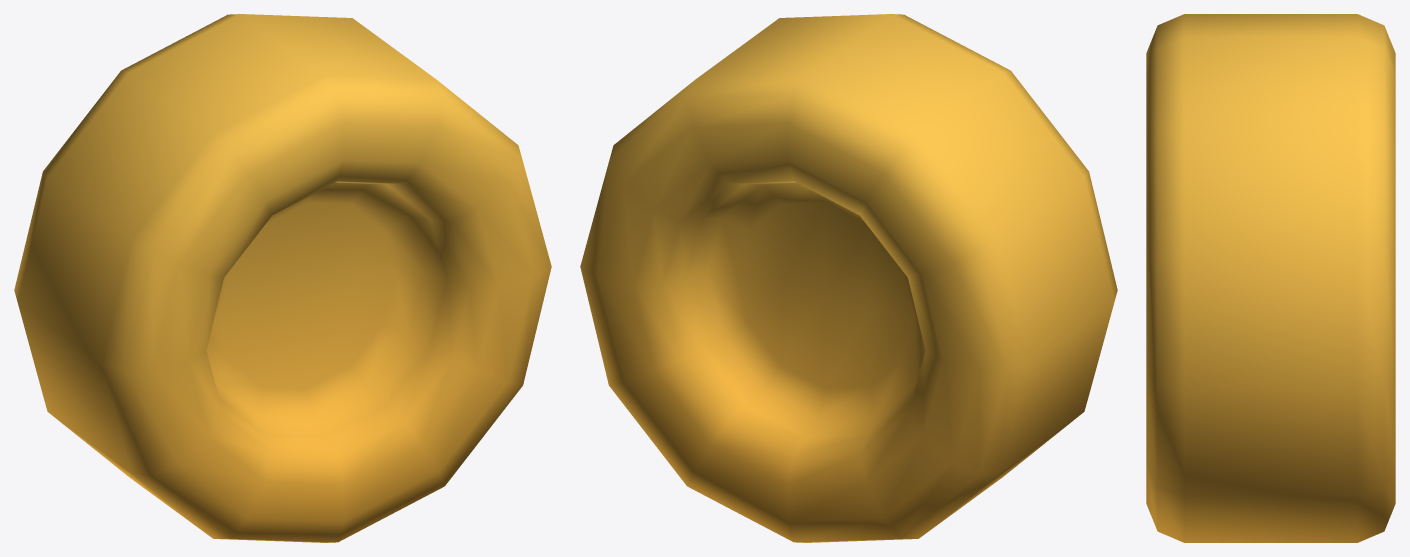
The model's file is coin.fbx.
The picture shows the model from 3 angles, left to right: view 1: azimuth 30°, elevation 25°; view 2: azimuth 150°, elevation 25°; view 3: azimuth 270°, elevation 25°; orthographic projection. The views are drawn at different scales.
Parts seen in each view (by area): view 1: coin; view 2: coin; view 3: coin.
Part boxes in pixels (bbox=[...]): coin: bbox=[14, 14, 551, 542]; coin: bbox=[580, 14, 1117, 542]; coin: bbox=[1146, 14, 1395, 542].
Size of the model in its own units: 0.8077 by 0.8077 by 0.379.
1 material, 1 textured.
